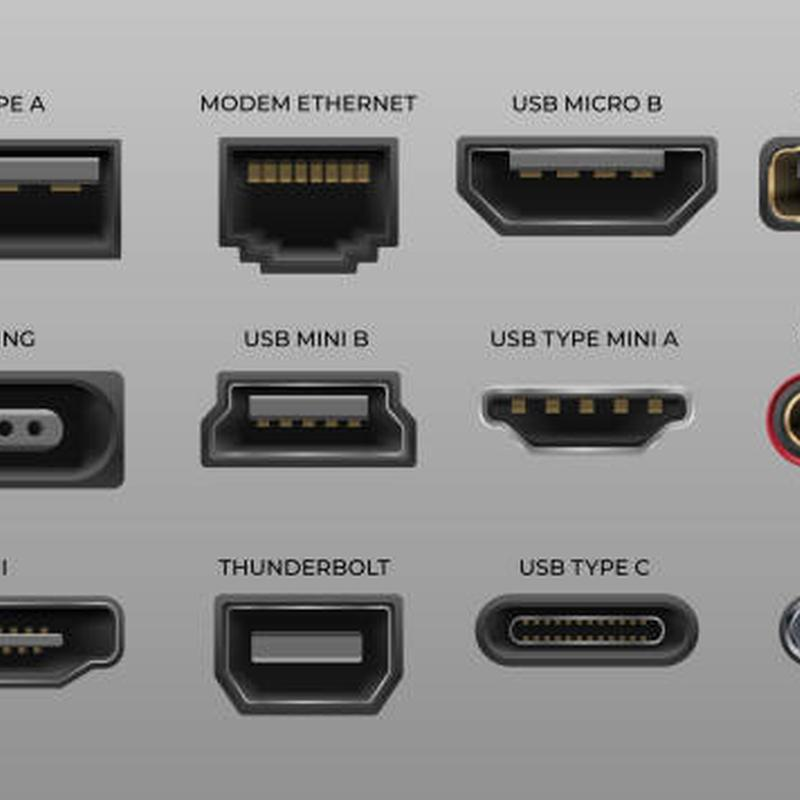ETHERNET: (204, 128, 411, 284)
USBC: (463, 586, 720, 684)
